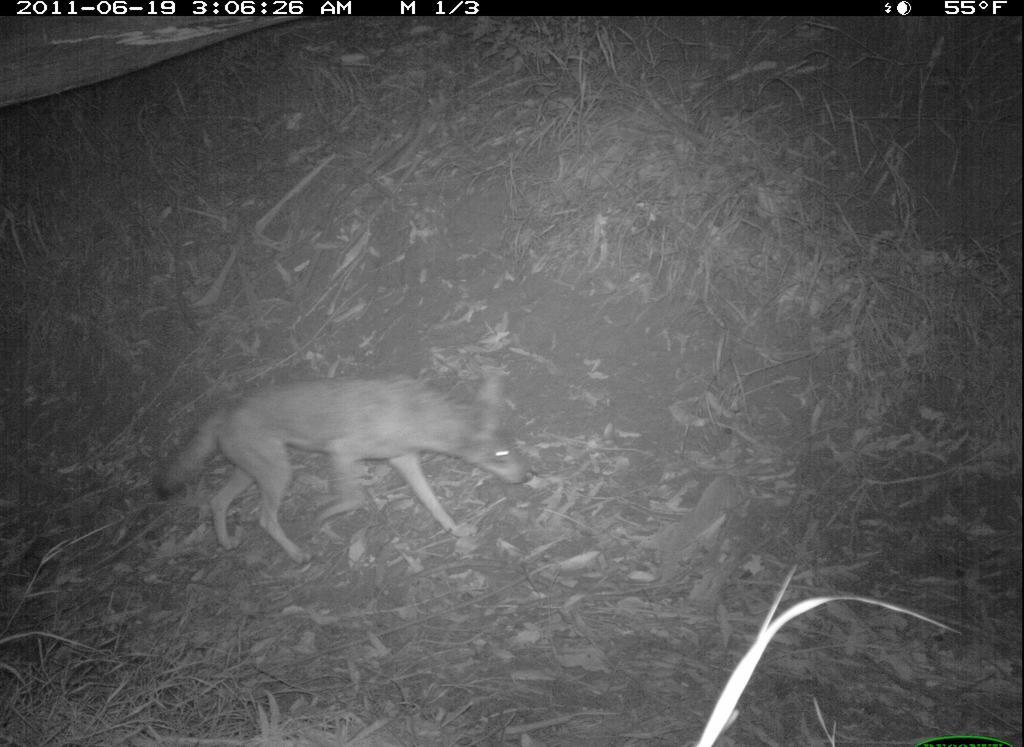coyote: (152, 365, 536, 569)
